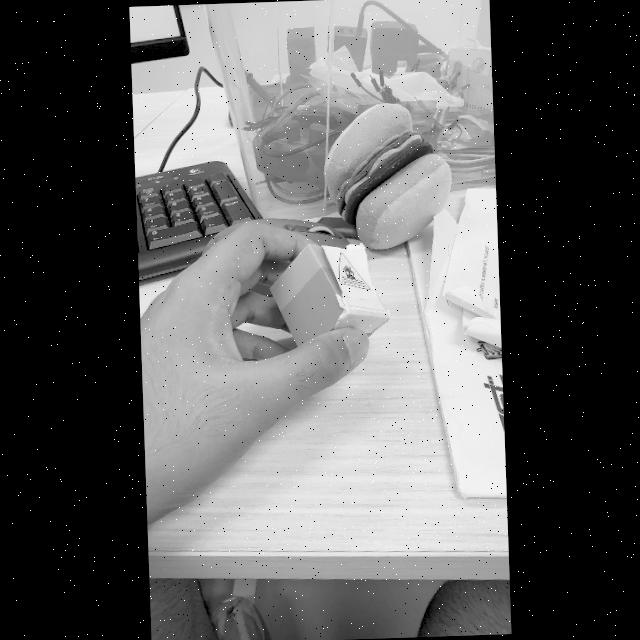Tsunami: (339, 253, 368, 289)
